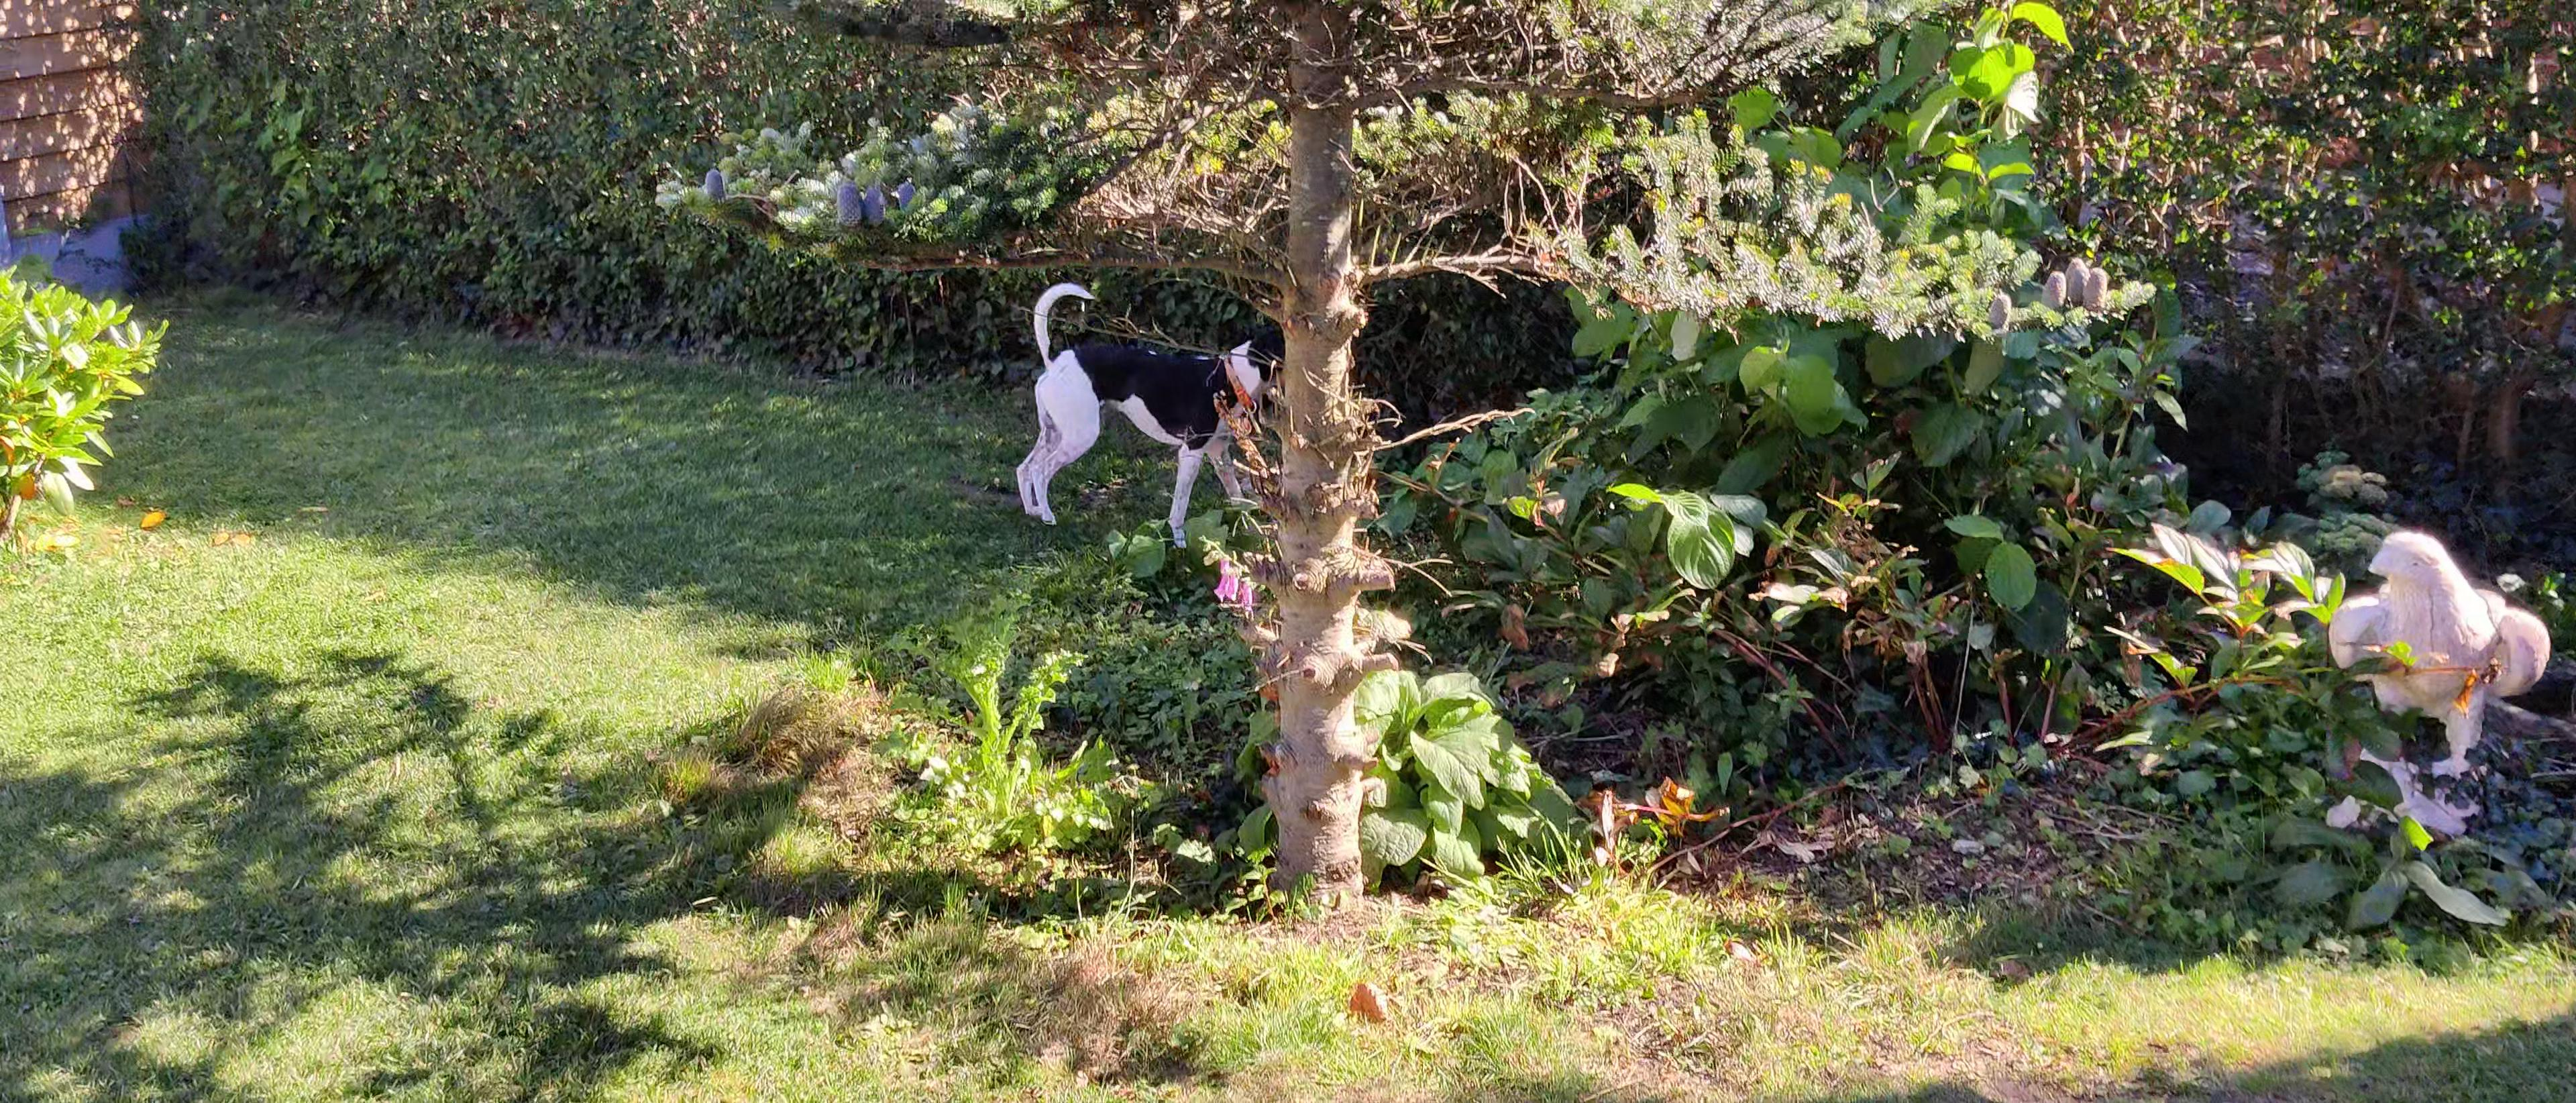Dog: (1014, 278, 1288, 549)
